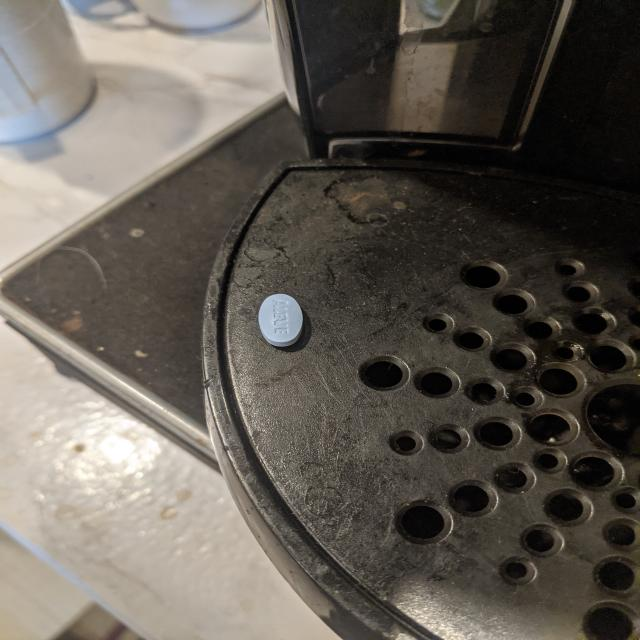non-organic waste: (257, 292, 304, 348)
